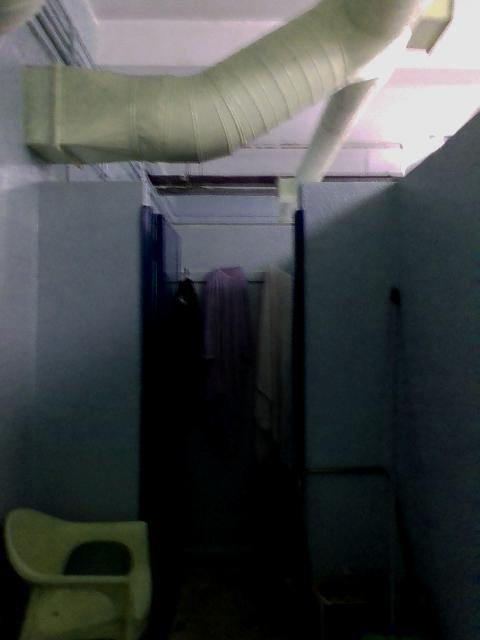open_door: (139, 178, 305, 638)
